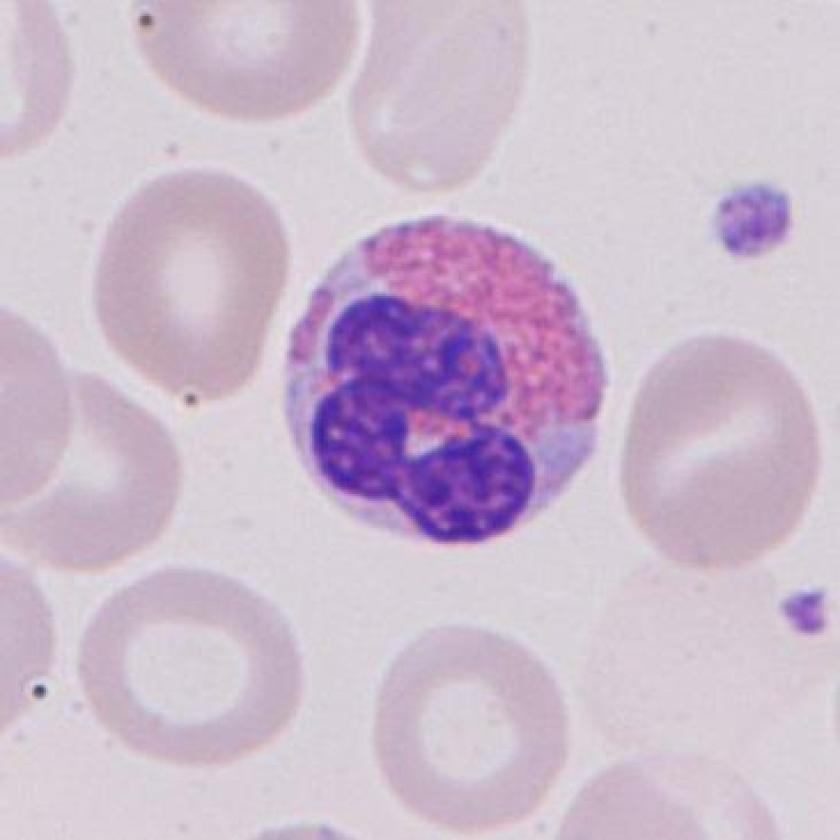eosinophil: (272, 201, 621, 561)
